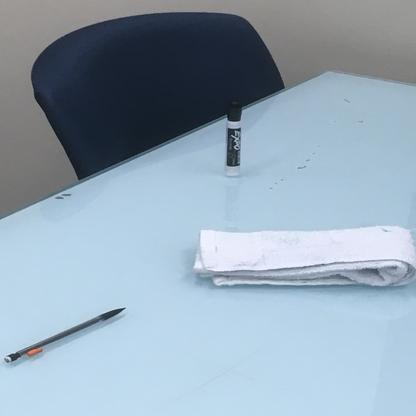expo_marker: (218, 98, 249, 181)
